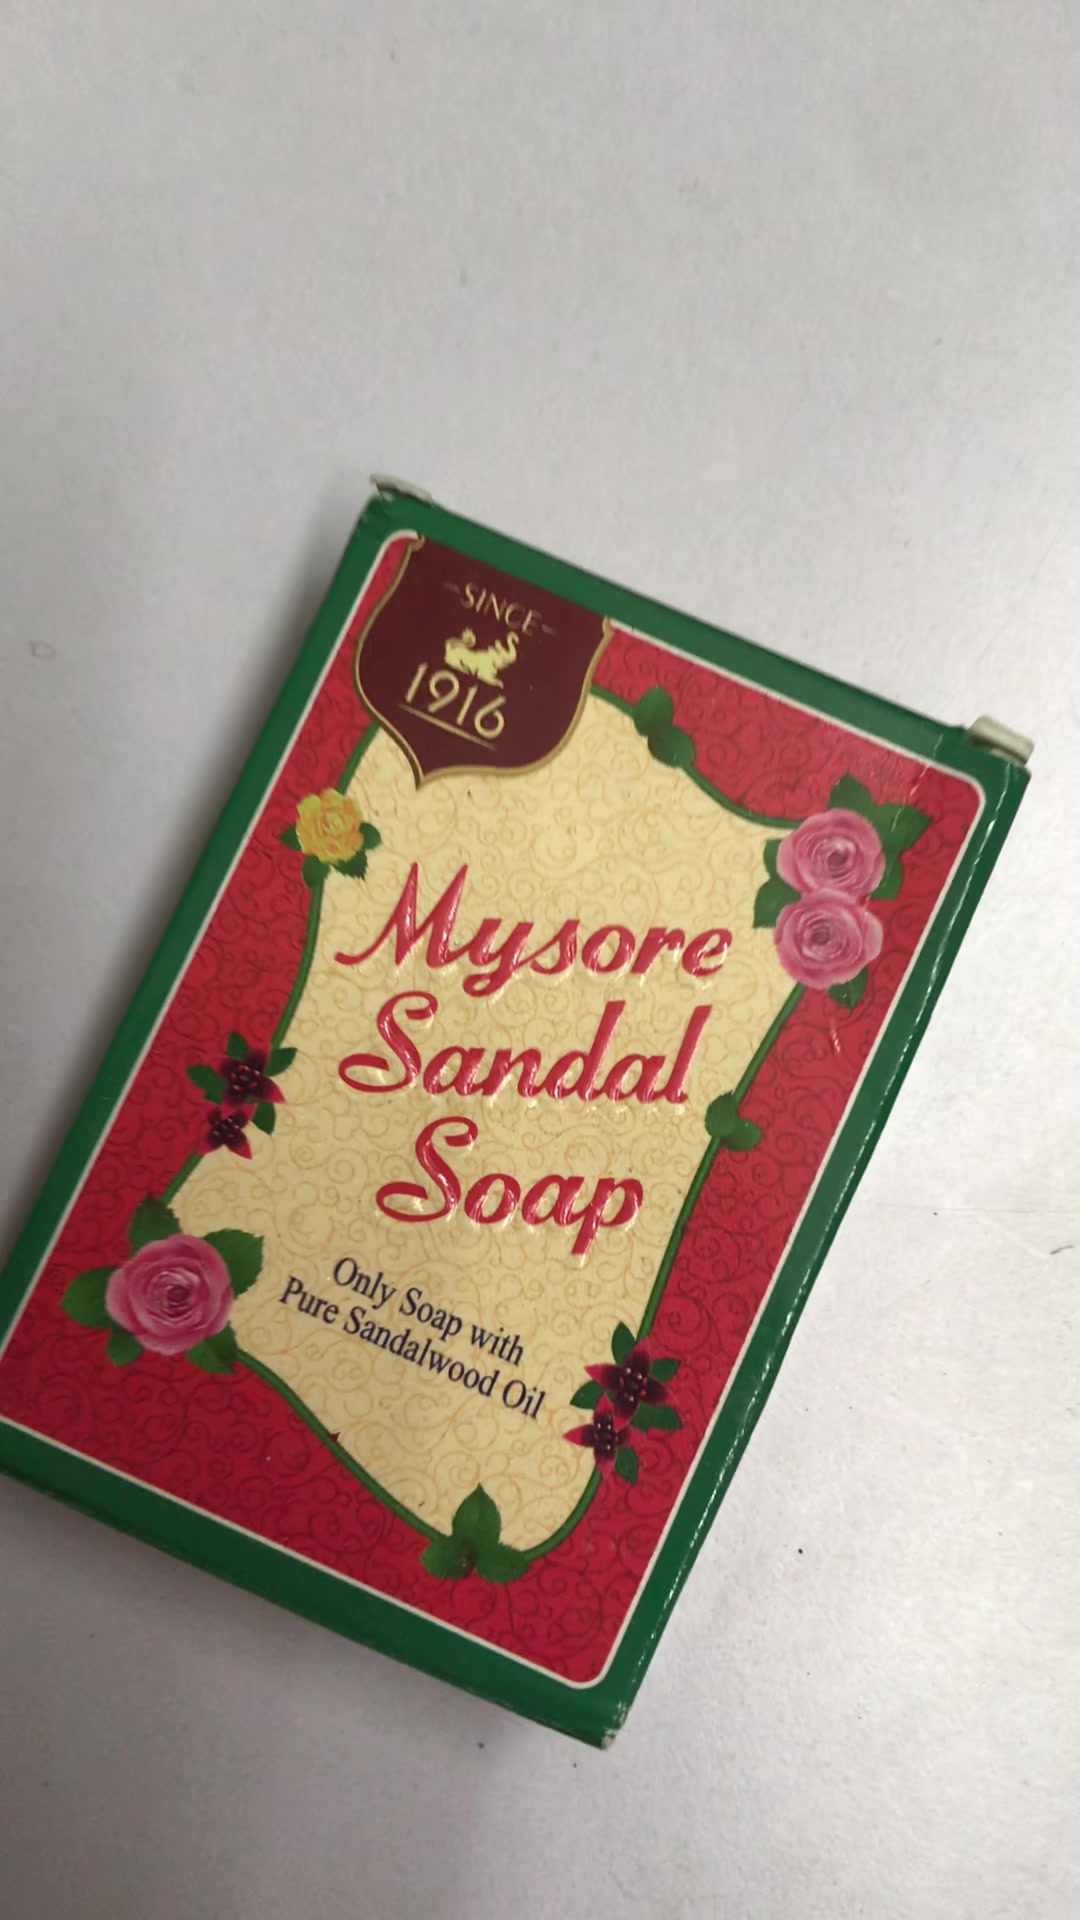mysore sandal soap: (11, 475, 1034, 1753)
